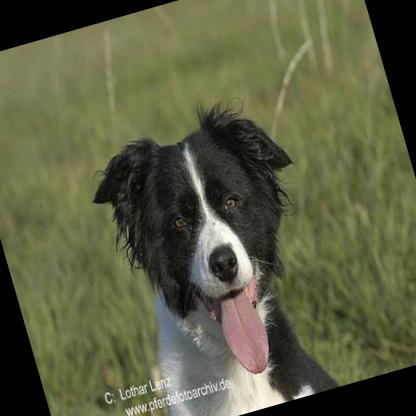collie: (70, 78, 357, 416)
